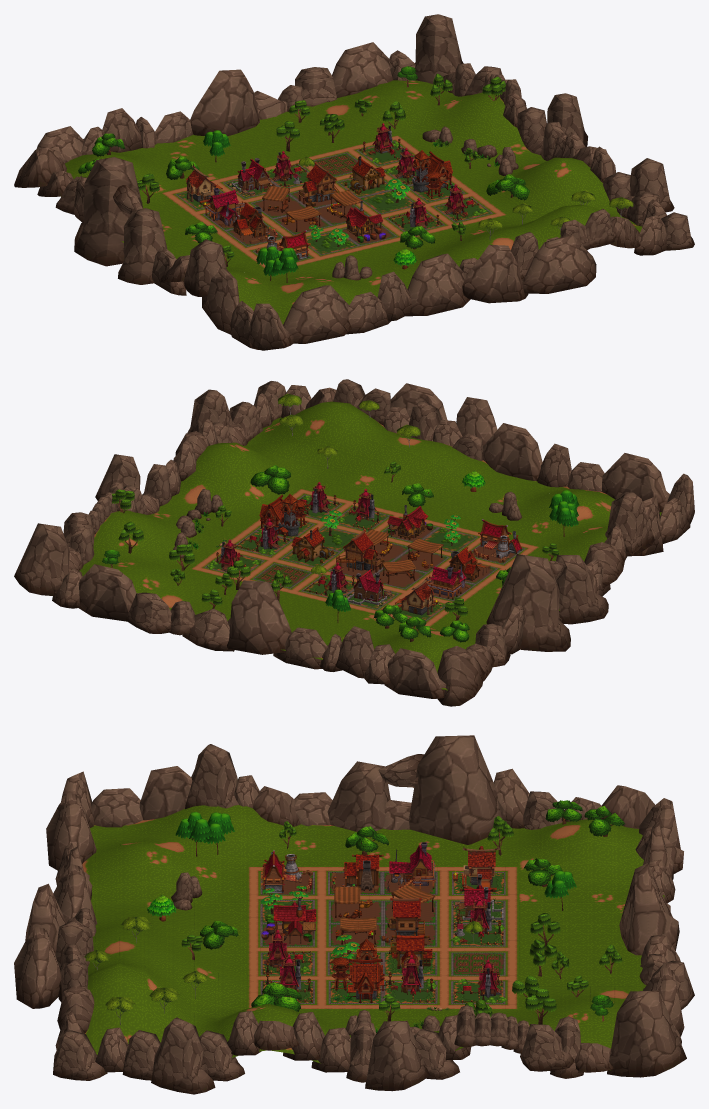
File: Srednjevekovna 18. mart-001.fbx
3 views of the same model, one above another, from view 1: azimuth 30°, elevation 25°; view 2: azimuth 150°, elevation 25°; view 3: azimuth 270°, elevation 25° (orthographic). The views are drawn at different scales.
Parts seen in each view (by area): view 1: Scena, Pod_i_putevi, Centar_scene, Okolina_4, Okolina_2, Okolina_1, Okolina_3, Okolina_5, prohodni_elementi, Toranj; view 2: Scena, Pod_i_putevi, Centar_scene, Okolina_4, Okolina_2, Okolina_1, Okolina_3, Okolina_5, Toranj, prohodni_elementi; view 3: Scena, Pod_i_putevi, Centar_scene, Okolina_4, Okolina_2, Okolina_1, Okolina_3, Okolina_5, Sargarepa, prohodni_elementi.
Boxes of the visible parts, x1,y1,x2,y2 form: Scena: [14, 14, 694, 350]; Pod_i_putevi: [61, 80, 642, 324]; Centar_scene: [250, 162, 369, 235]; Okolina_4: [185, 221, 435, 282]; Okolina_2: [276, 66, 452, 151]; Okolina_1: [78, 130, 230, 203]; Okolina_3: [451, 174, 633, 240]; Okolina_5: [422, 126, 518, 175]; prohodni_elementi: [196, 139, 499, 248]; Toranj: [412, 150, 433, 192]; Scena: [14, 379, 694, 706]; Pod_i_putevi: [79, 401, 661, 690]; Centar_scene: [329, 529, 449, 589]; Okolina_4: [402, 470, 579, 585]; Okolina_2: [102, 521, 291, 608]; Okolina_1: [325, 589, 469, 642]; Okolina_3: [250, 393, 420, 494]; Okolina_5: [173, 489, 231, 558]; Toranj: [276, 494, 299, 537]; prohodni_elementi: [188, 495, 461, 606]; Scena: [14, 735, 694, 1094]; Pod_i_putevi: [82, 805, 664, 1070]; Centar_scene: [328, 884, 437, 946]; Okolina_4: [147, 812, 388, 949]; Okolina_2: [512, 913, 622, 1024]; Okolina_1: [487, 800, 624, 910]; Okolina_3: [84, 916, 301, 1024]; Okolina_5: [345, 996, 475, 1035]; Sargarepa: [456, 953, 500, 972]; prohodni_elementi: [265, 872, 468, 1032].
Bounding box in the file's own units: 32.12 × 5.61 × 31.4.
Materials: 4 (3 with a texture image).
